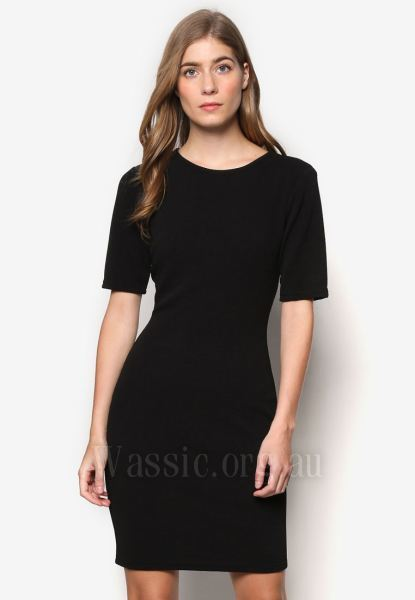S_dress: (87, 141, 325, 571)
